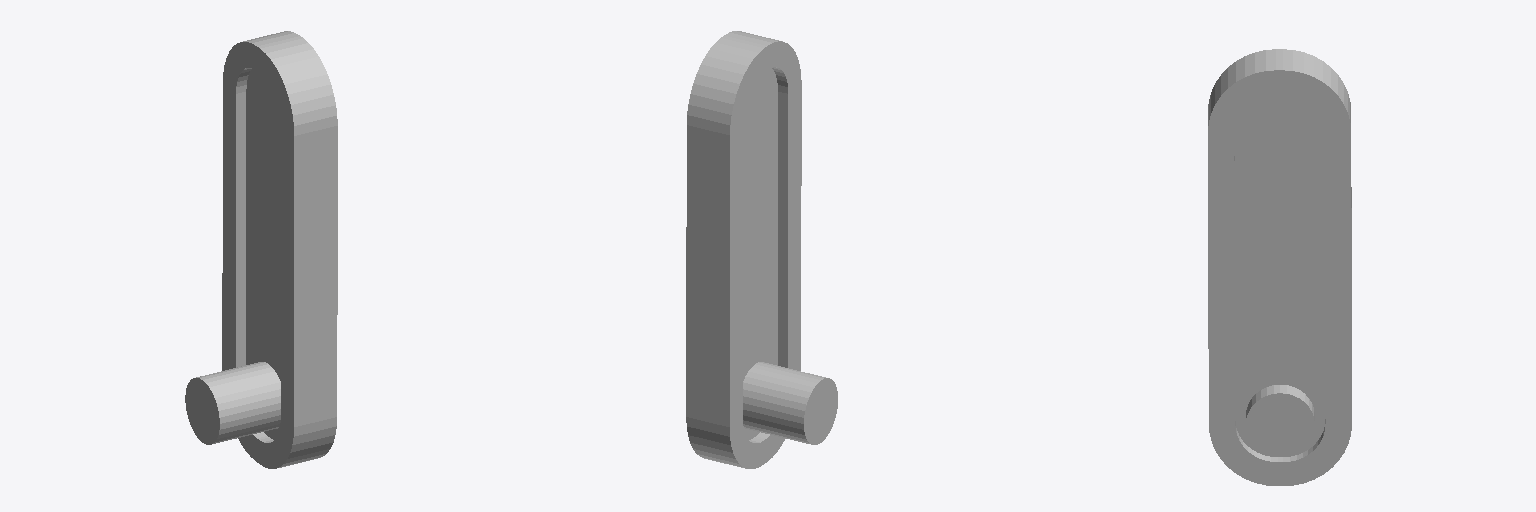
File: Forearm.obj
The picture shows the model from 3 angles: view 1: azimuth 30°, elevation 25°; view 2: azimuth 150°, elevation 25°; view 3: azimuth 270°, elevation 25°; orthographic projection.
Visible parts, largest first — view 1: Forearm_Cylinder.016; view 2: Forearm_Cylinder.016; view 3: Forearm_Cylinder.016.
Part boxes in pixels (bbox=[...]): Forearm_Cylinder.016: bbox=[185, 31, 337, 468]; Forearm_Cylinder.016: bbox=[686, 31, 837, 468]; Forearm_Cylinder.016: bbox=[1208, 49, 1351, 485].
Size of the model in its own units: 1.11 by 4.13 by 1.3.